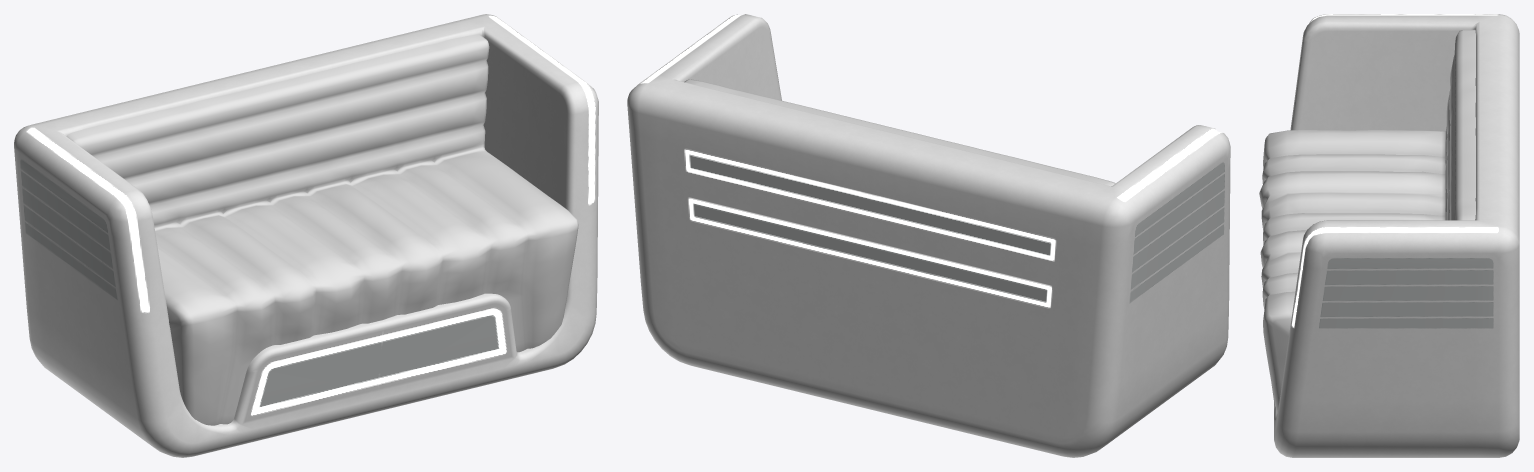
File: Sofa06_1.FBX
3 views of the same model, side by side, from view 1: azimuth 30°, elevation 25°; view 2: azimuth 150°, elevation 25°; view 3: azimuth 270°, elevation 25° (orthographic). The views are drawn at different scales.
Visible parts, largest first — view 1: Sofa06_1; view 2: Sofa06_1; view 3: Sofa06_1.
Part boxes in pixels (x1,y1,x2,y2): Sofa06_1: (14,14,598,457); Sofa06_1: (627,14,1230,457); Sofa06_1: (1259,14,1519,457).
Size of what is drawn, in the model's own units: 1.93 by 0.9862 by 0.9378.
